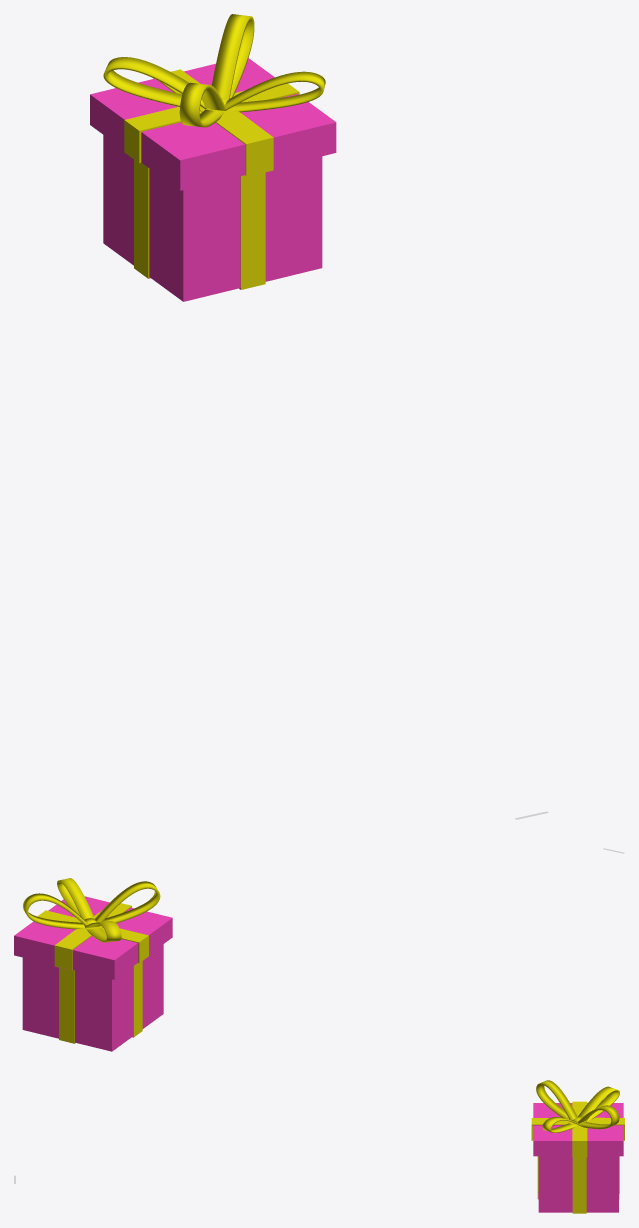
The model's file is mystery.fbx.
3 views of the same model, one above another, from view 1: azimuth 30°, elevation 25°; view 2: azimuth 150°, elevation 25°; view 3: azimuth 270°, elevation 25° (orthographic). The views are drawn at different scales.
Parts seen in each view (by area): view 1: Cube, Cube.002, NurbsPath.002, NurbsPath, NurbsPath.001, NurbsPath.003; view 2: Cube, Cube.002, NurbsPath.003, NurbsPath.002, NurbsPath.001, NurbsPath; view 3: Cube, Cube.002, NurbsPath.003, NurbsPath, NurbsPath.002, NurbsPath.001.
Part boxes in pixels (x1,y1,x2,y2): Cube: [103, 135, 322, 301]; Cube.002: [90, 58, 336, 190]; NurbsPath.002: [211, 14, 254, 98]; NurbsPath: [103, 57, 209, 109]; NurbsPath.001: [225, 71, 325, 112]; NurbsPath.003: [179, 82, 225, 127]; Cube: [22, 944, 163, 1051]; Cube.002: [14, 896, 172, 979]; NurbsPath.003: [94, 881, 160, 923]; NurbsPath.002: [22, 893, 87, 929]; NurbsPath.001: [57, 878, 94, 919]; NurbsPath: [85, 921, 121, 942]; Cube: [537, 1156, 619, 1213]; Cube.002: [531, 1101, 624, 1156]; NurbsPath.003: [536, 1080, 577, 1120]; NurbsPath: [578, 1086, 619, 1122]; NurbsPath.002: [577, 1105, 619, 1129]; NurbsPath.001: [542, 1117, 578, 1132].
Bounding box in the file's own units: 497 × 400 × 1524.
